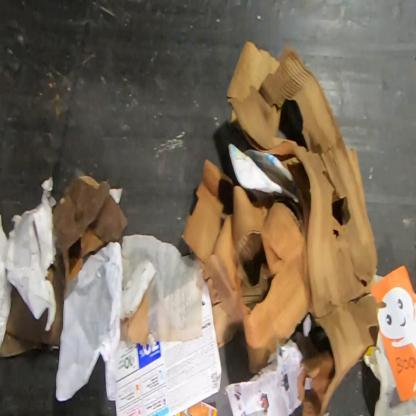cardboard: (226, 40, 388, 416), (181, 142, 311, 374), (0, 176, 128, 358)
